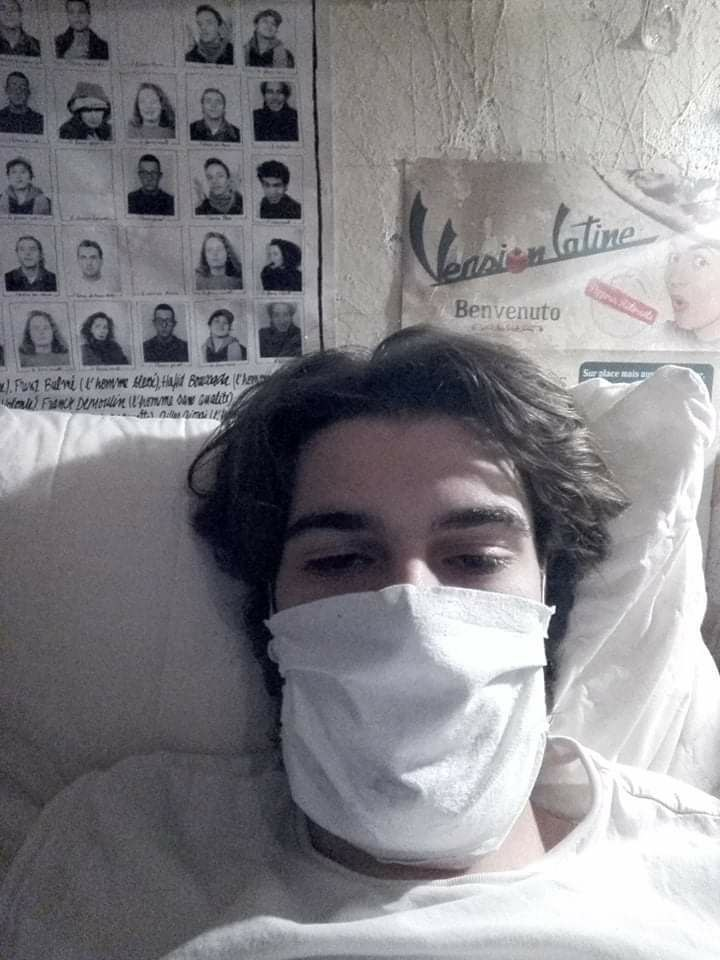with_mask: (241, 399, 580, 851)
